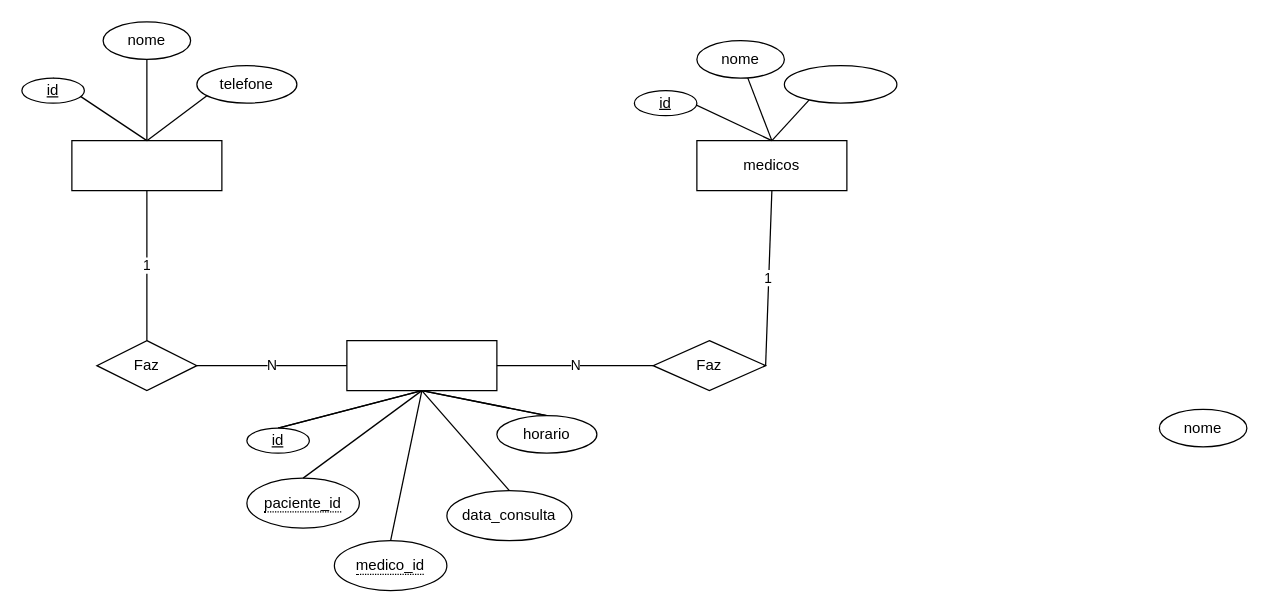
This 1269x613 diagram has some shape labels left out. The shapes that lost their labels are listed below. From the top down, each one's centre as x and y in pixels, then its label:
At pixel 840 83: "especialidade".
At pixel 146 165: "pacientes".
At pixel 421 365: "consultas".
